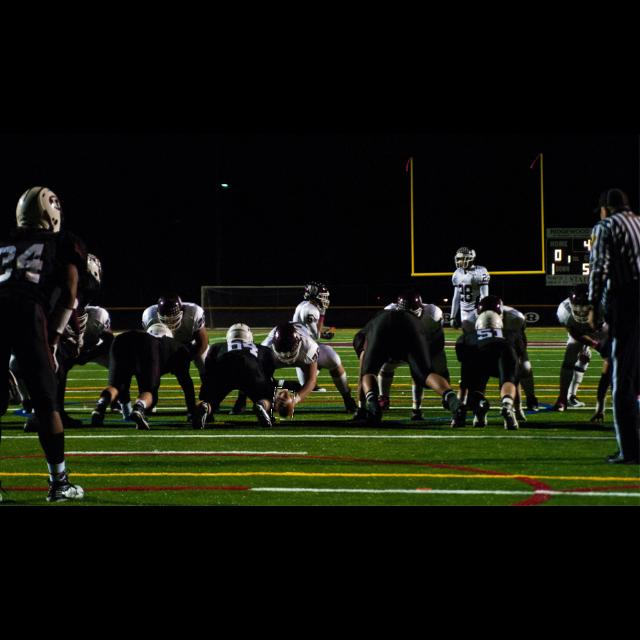Football: (272, 388, 294, 420)
